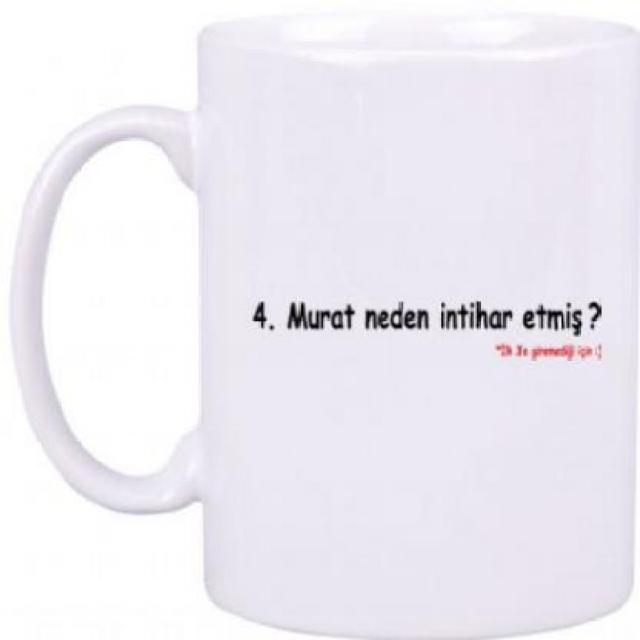taza: (10, 9, 640, 640)
